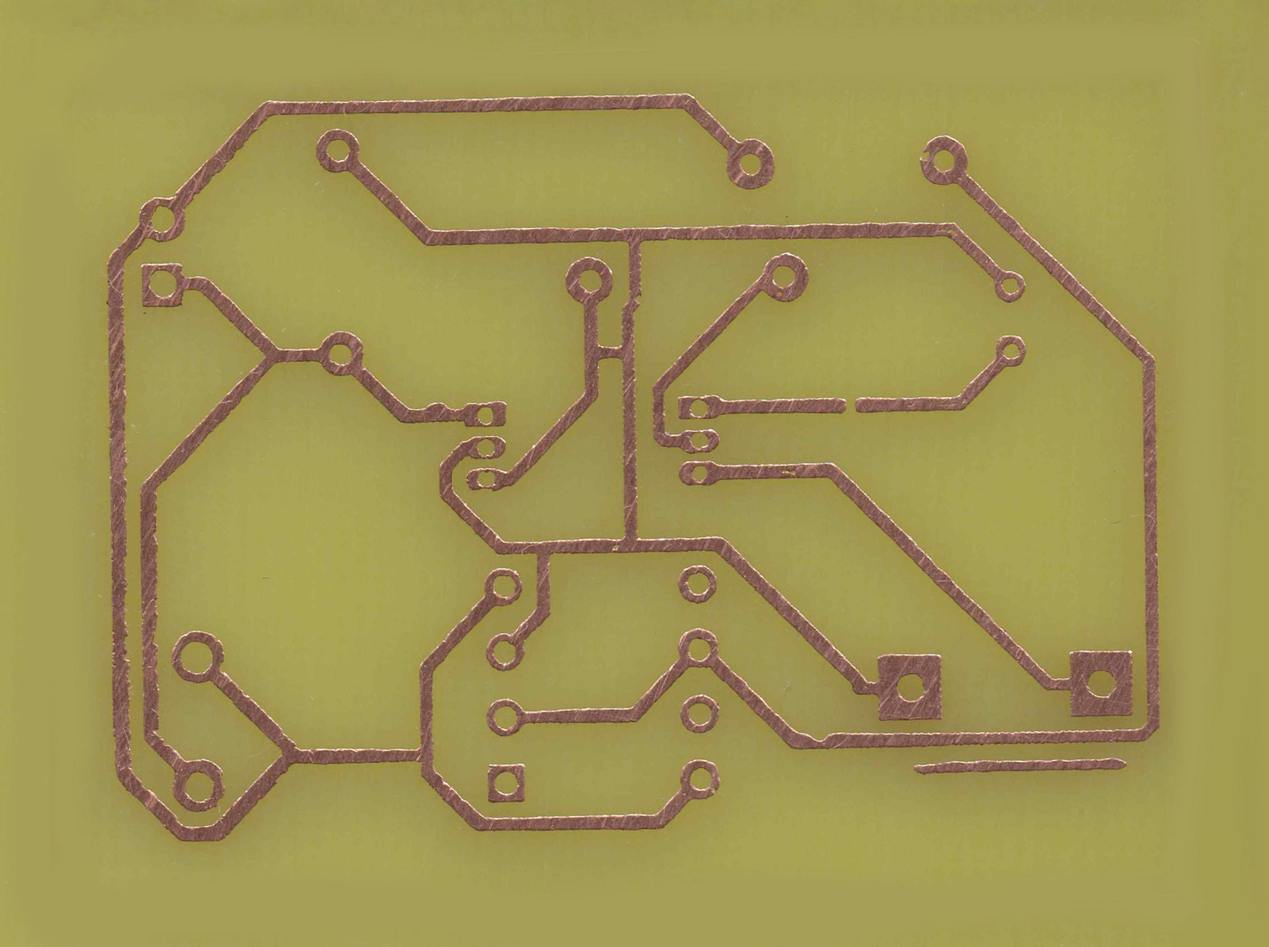mouse_bite: (800, 726, 837, 753)
open_circuit: (836, 392, 864, 417)
short: (577, 333, 637, 363)
spur: (419, 399, 449, 427)
spurious_copper: (909, 756, 1130, 781)
